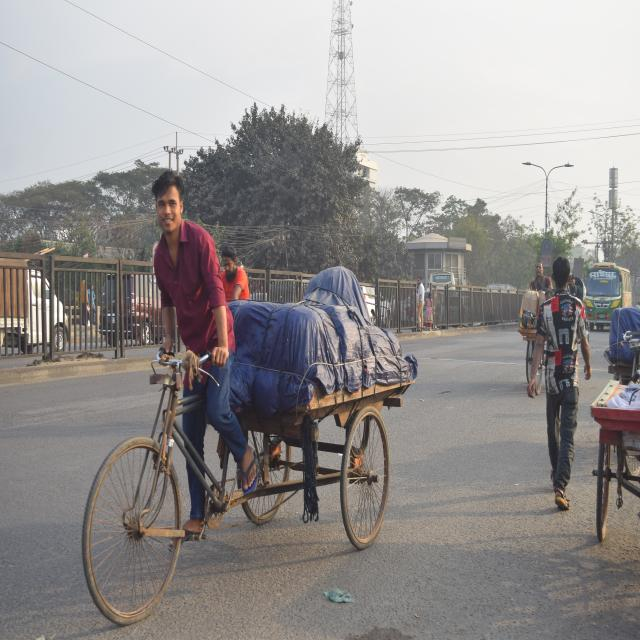bus: (585, 250, 634, 327)
car: (106, 273, 163, 336)
pickup-van: (0, 245, 63, 374)
